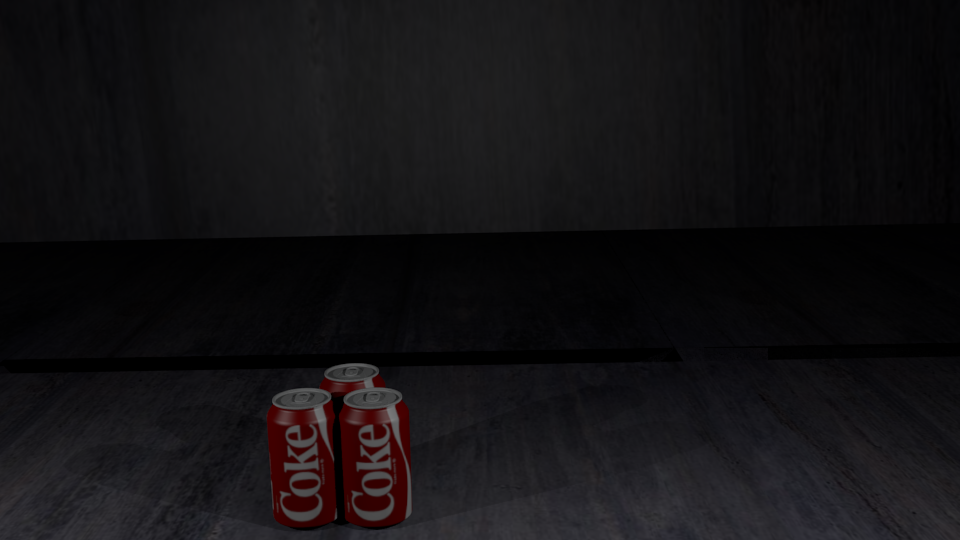cola_can: (267, 388, 340, 524), (338, 388, 410, 522), (320, 364, 384, 490)
